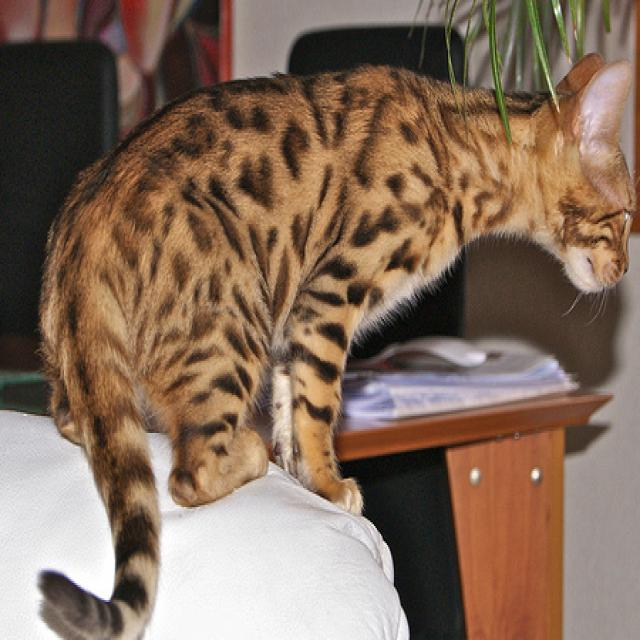Bengal: (17, 40, 639, 640)
